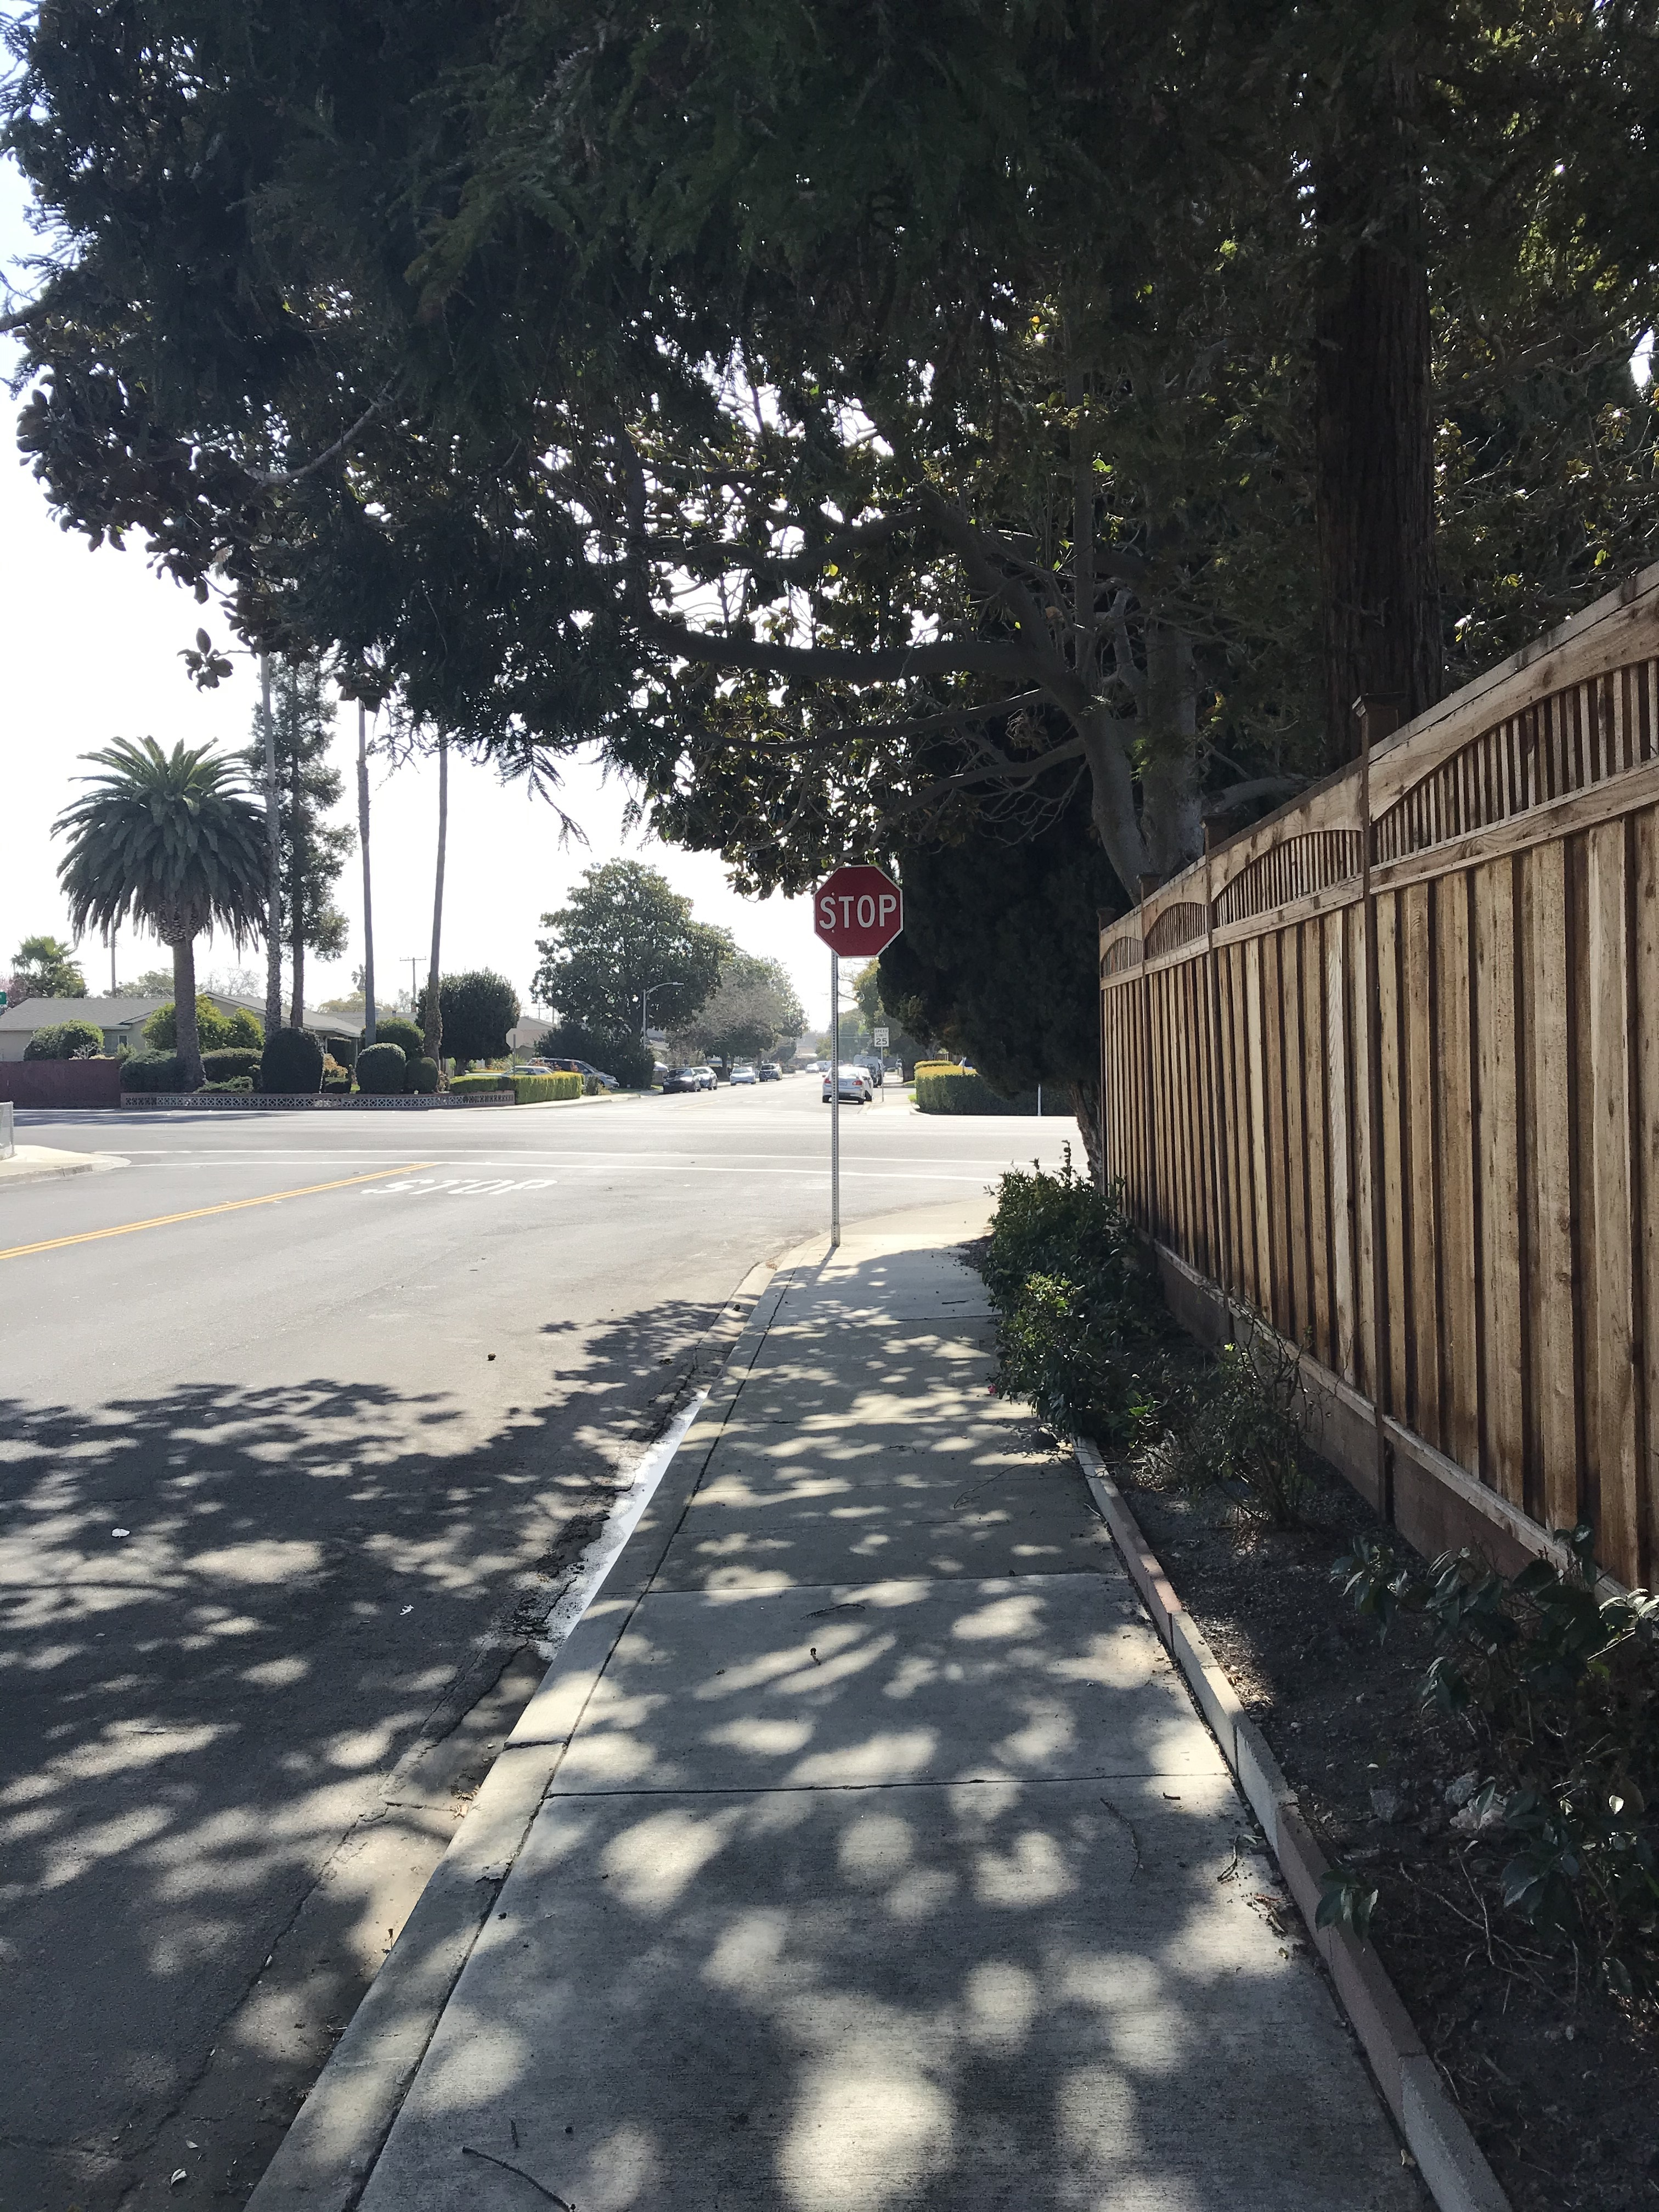stop_sign: (814, 867, 903, 965)
